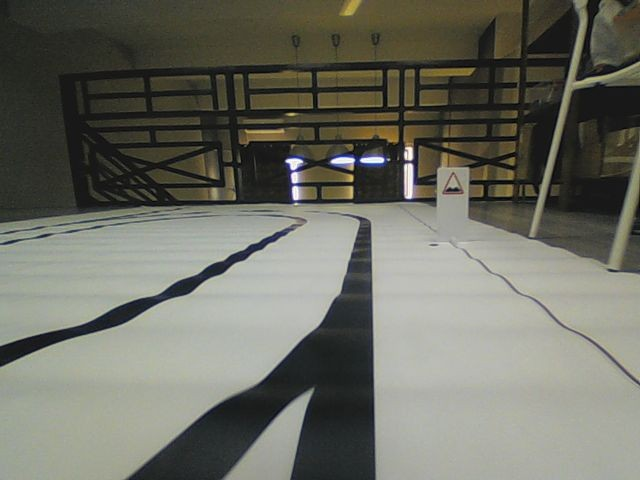Nerov: (441, 171, 464, 196)
